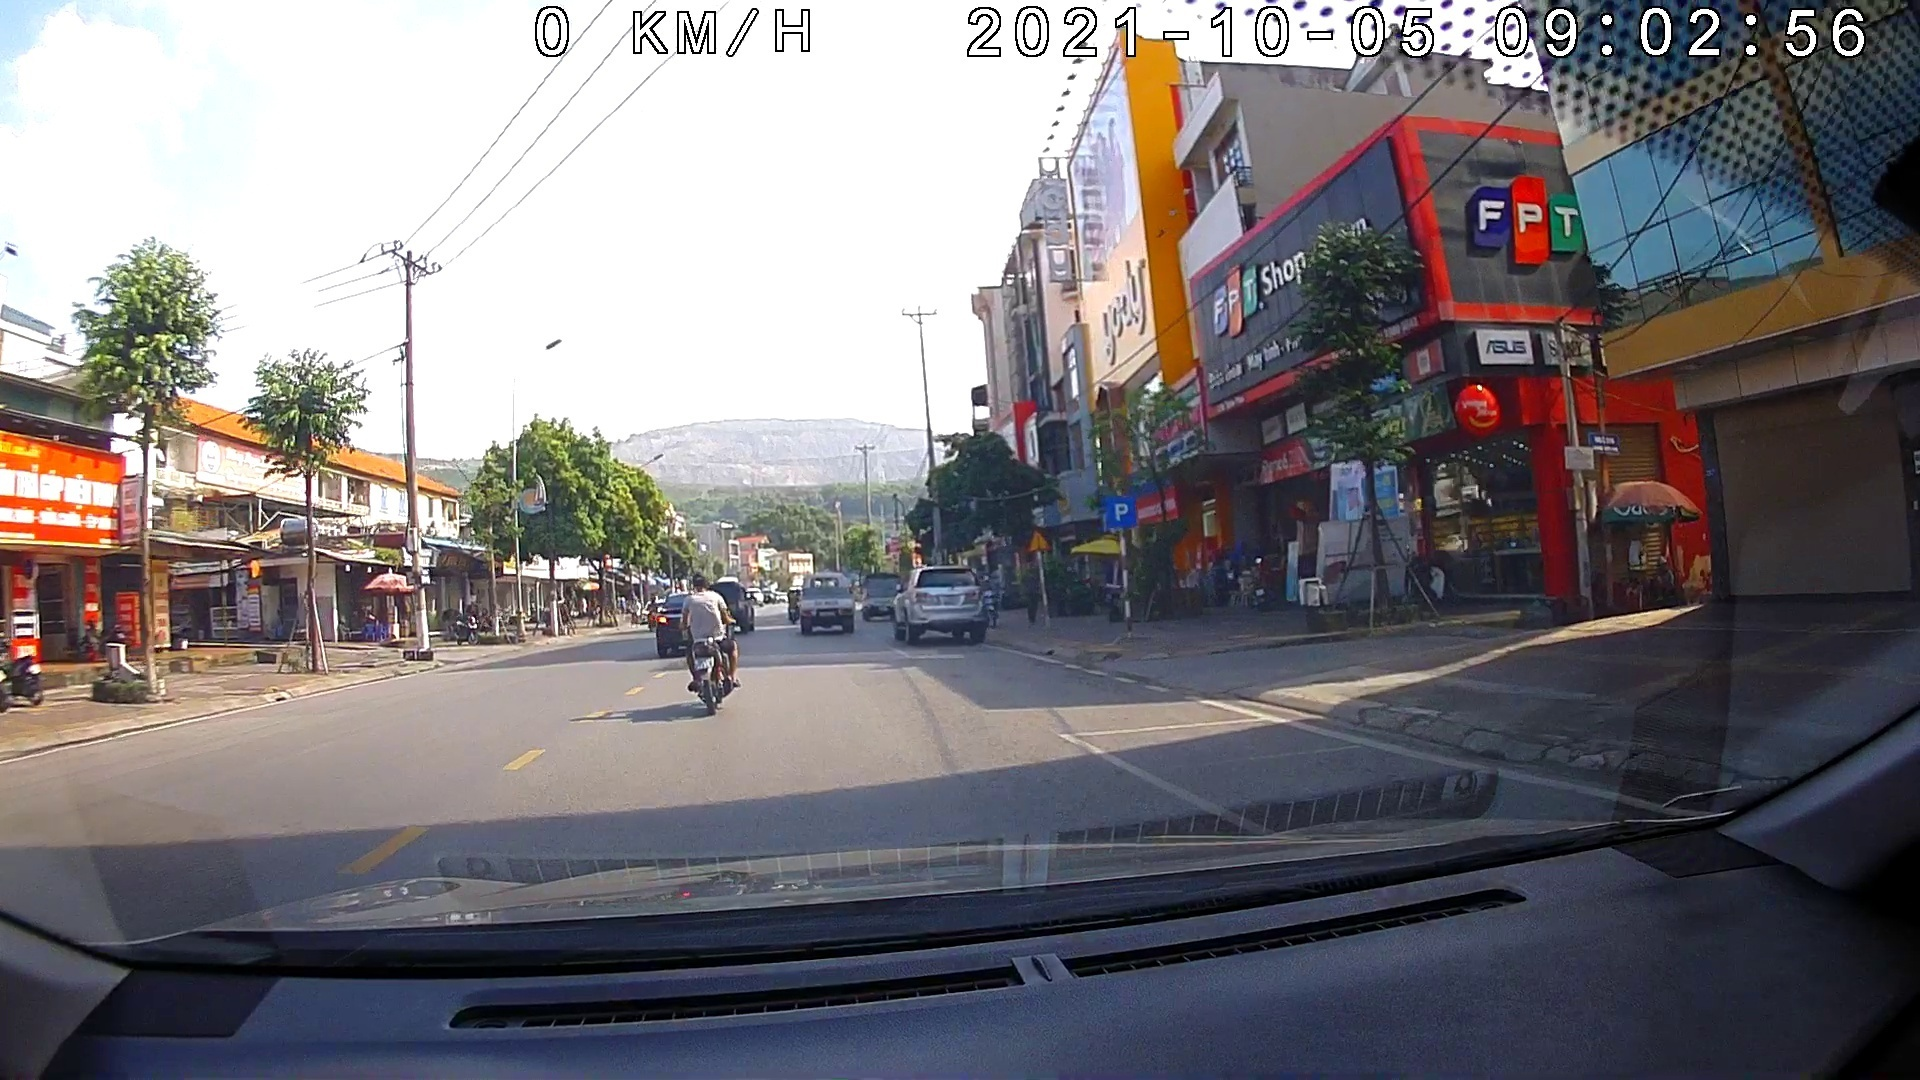Bien khac: (1025, 530, 1056, 555), (1105, 493, 1131, 522)
